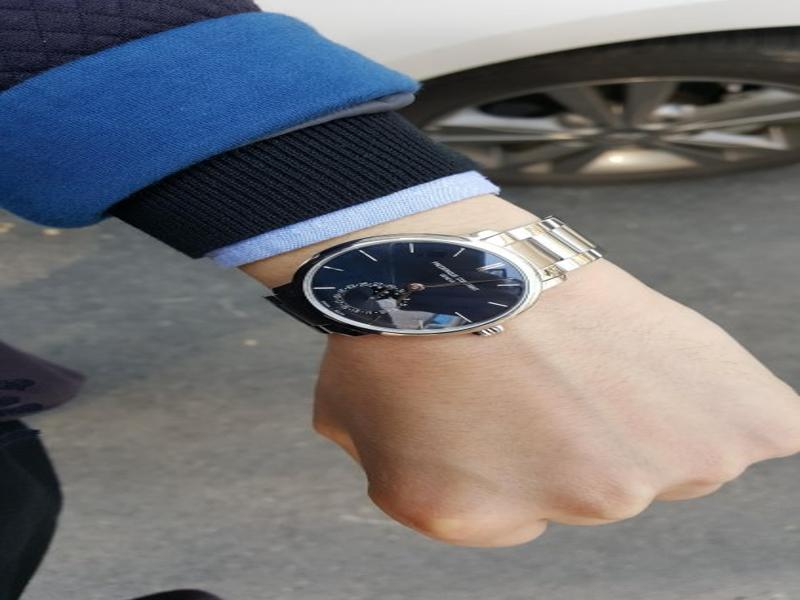watch: (260, 215, 610, 345)
